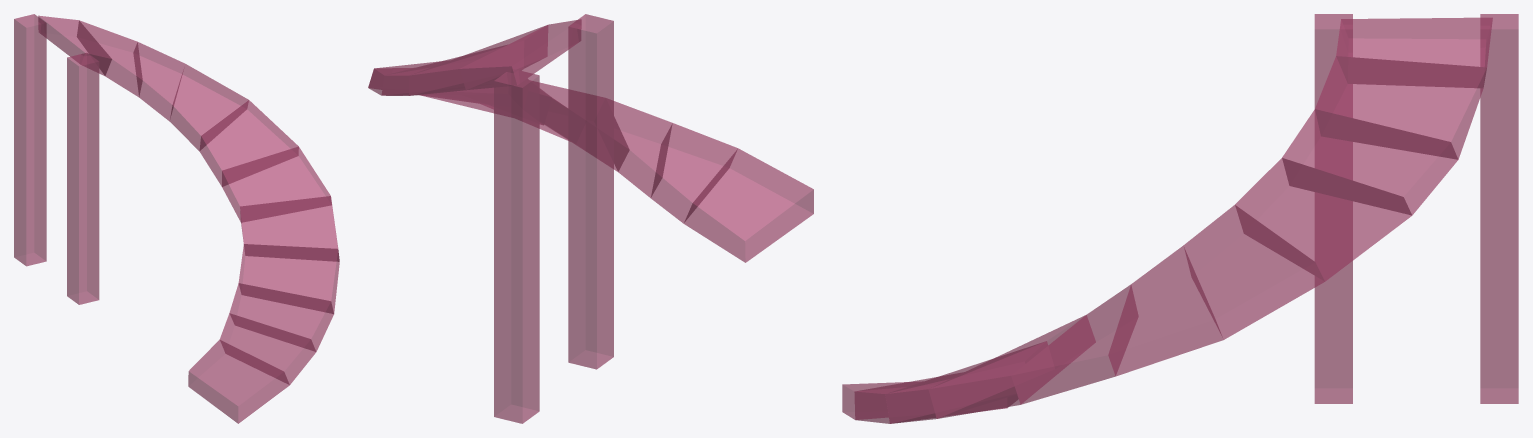
Rendered from SM_Bld_Stairs_Curved_01_Collision.fbx.
3 views of the same model, side by side, from view 1: azimuth 30°, elevation 25°; view 2: azimuth 150°, elevation 25°; view 3: azimuth 270°, elevation 25° (orthographic). The views are drawn at different scales.
Visible parts, largest first — view 1: SM_Bld_Stairs_Curved_01_Collision; view 2: SM_Bld_Stairs_Curved_01_Collision; view 3: SM_Bld_Stairs_Curved_01_Collision.
Boxes of the visible parts, left/top/right/bottom form: SM_Bld_Stairs_Curved_01_Collision: left=14, top=14, right=339, bottom=423; SM_Bld_Stairs_Curved_01_Collision: left=368, top=14, right=813, bottom=423; SM_Bld_Stairs_Curved_01_Collision: left=842, top=14, right=1518, bottom=423.
Bounding box in the file's own units: 248 × 317 × 487.
